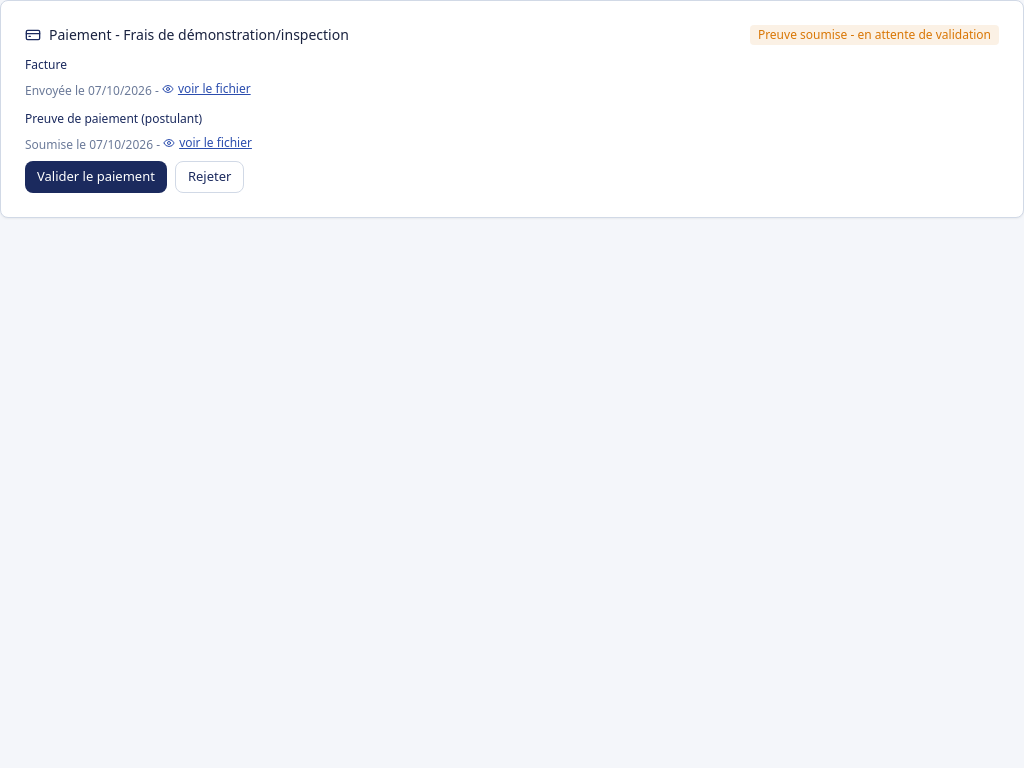
Test case: M6 payment card - final rejection of the dossier › Escape cancels: nothing sent, the form keeps its choice and reason
Click the button "Rejeter": (210, 177) left=175, top=161, right=244, bottom=193
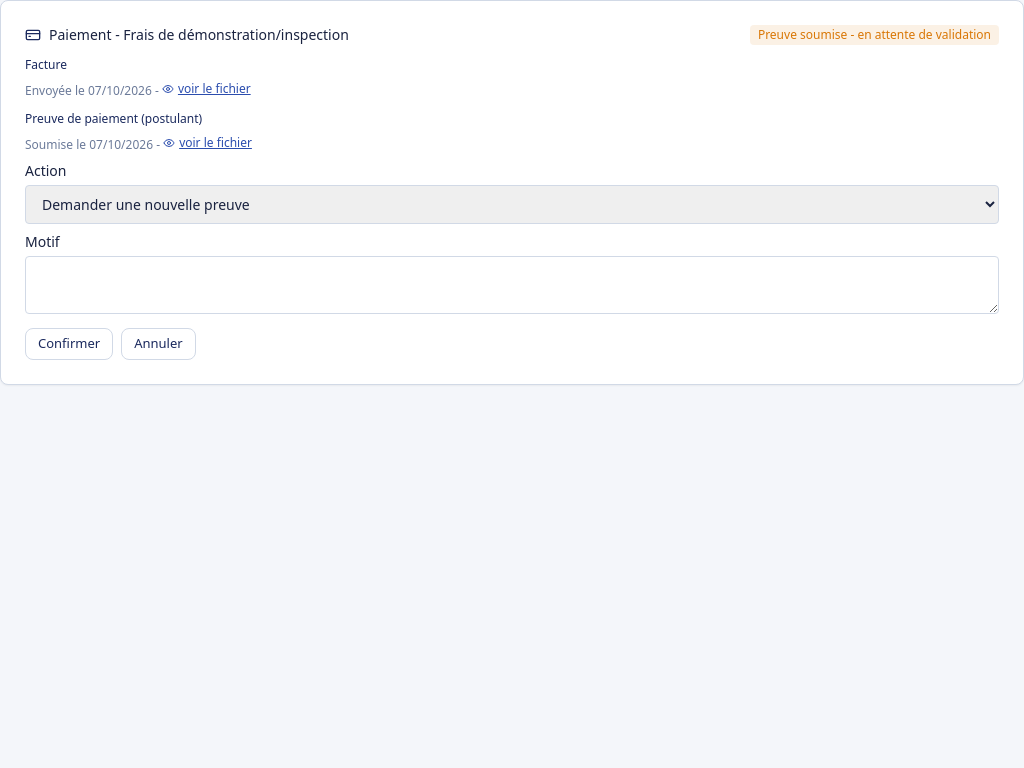
Select "Rejeter le dossier (annulation définitive)" in the dropdown labelled "Action": (512, 204) left=25, top=185, right=999, bottom=224
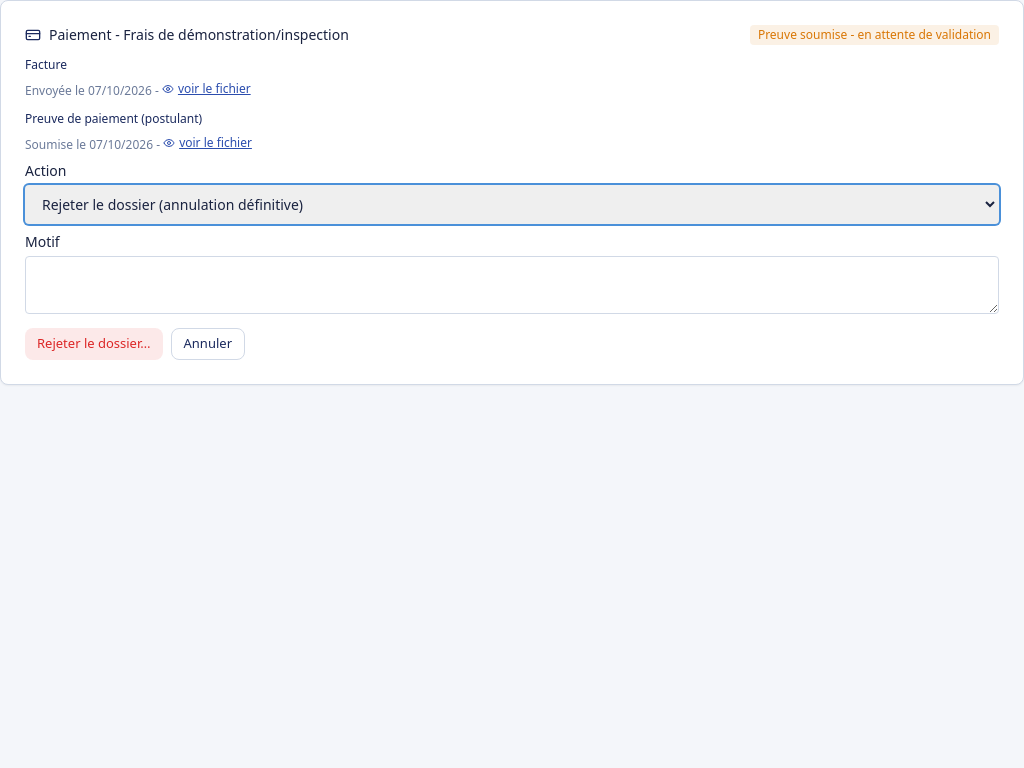
In the text box labelled "Motif": (512, 285) left=25, top=256, right=999, bottom=314, type "Quittance falsifiée : la référence bancaire n'existe pas."
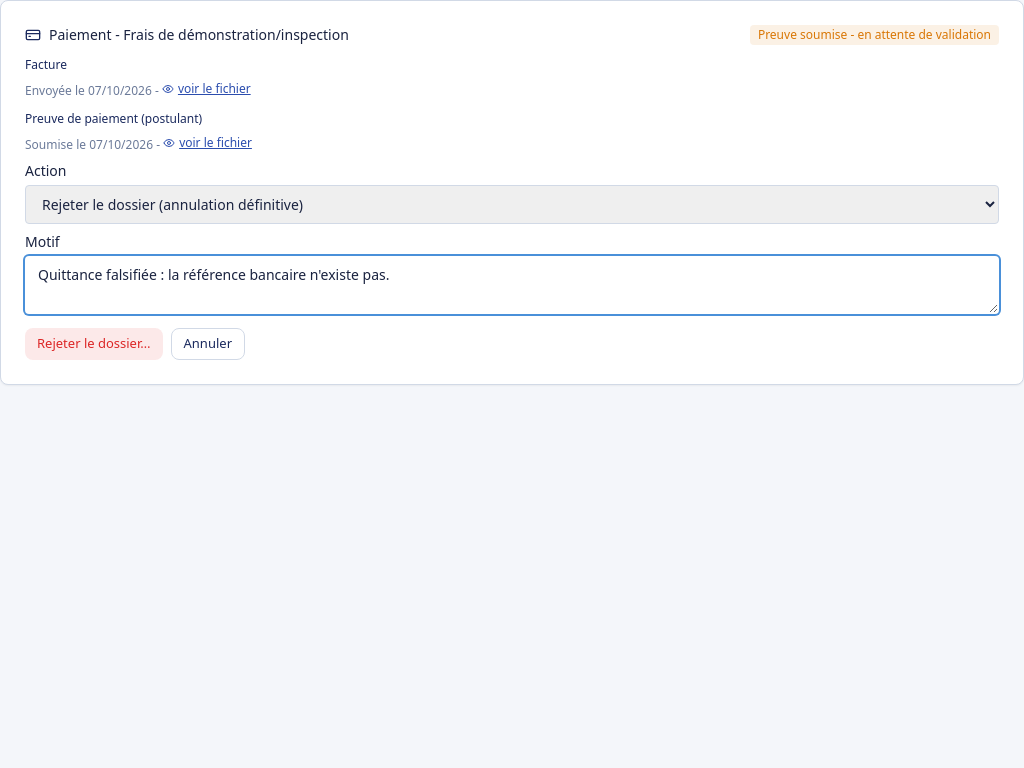
Click the button "Rejeter le dossier…": (94, 344) left=25, top=328, right=162, bottom=360
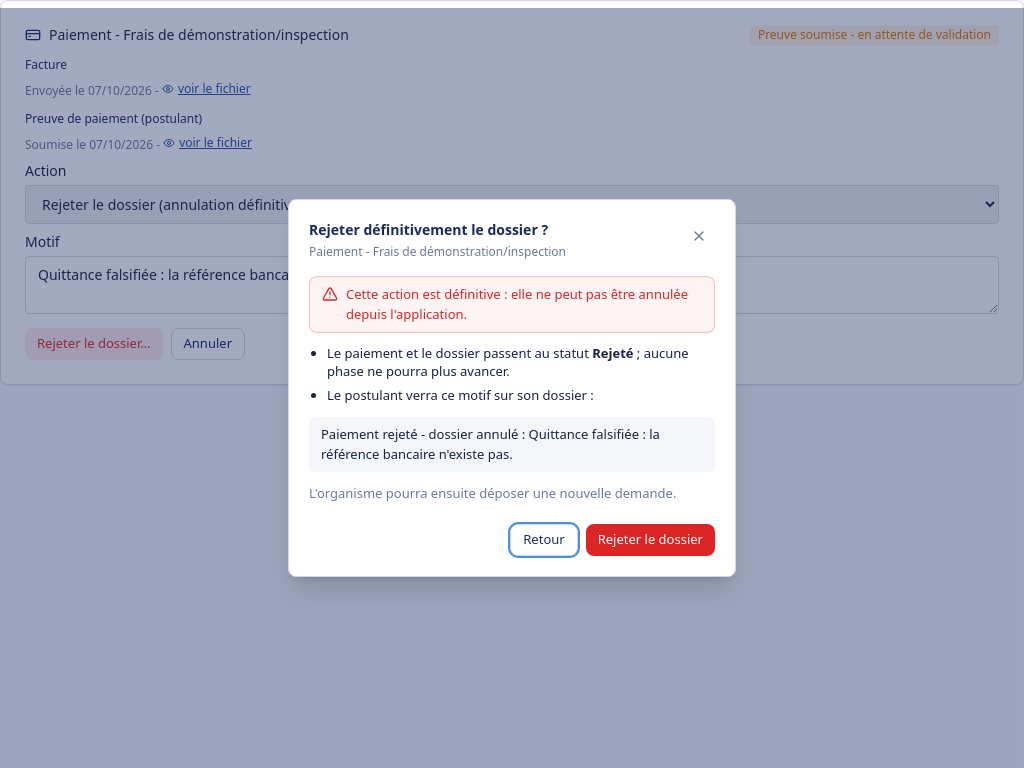
Press Escape
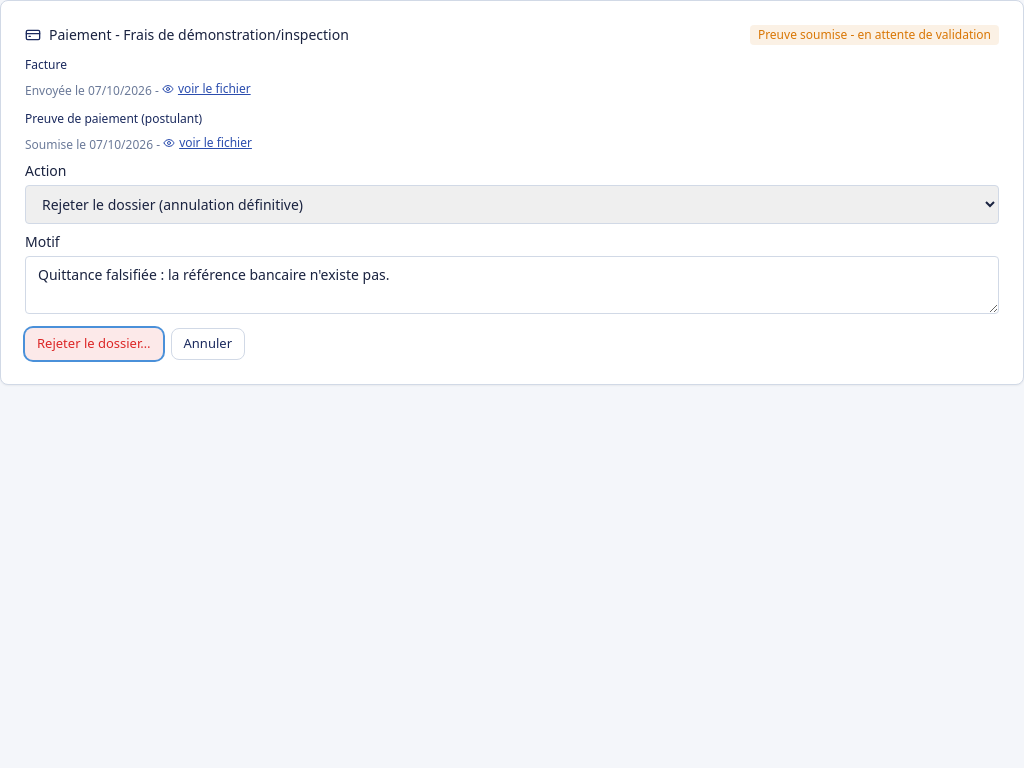
Check: the dialog is gone
